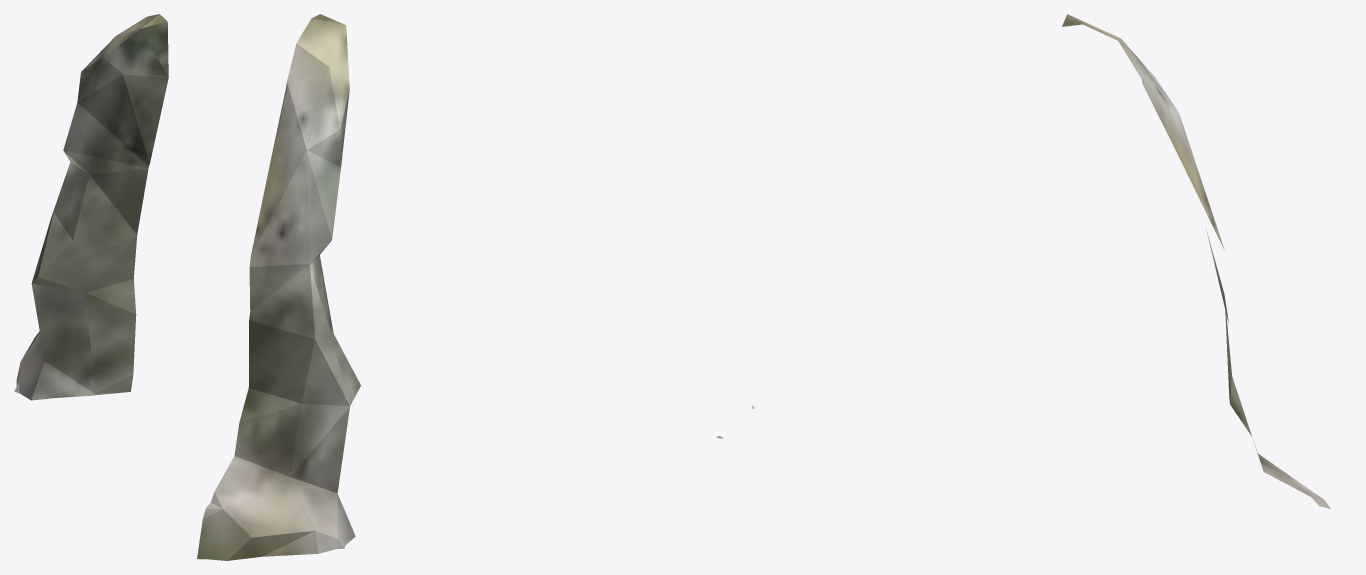
3 renders of one model, left to right at view 1: azimuth 30°, elevation 25°; view 2: azimuth 150°, elevation 25°; view 3: azimuth 270°, elevation 25°, orthographic. The views are drawn at different scales.
Size of the model in its own units: 0.4108 by 0.6598 by 0.6679.
Materials: 1 (1 with a texture image).
